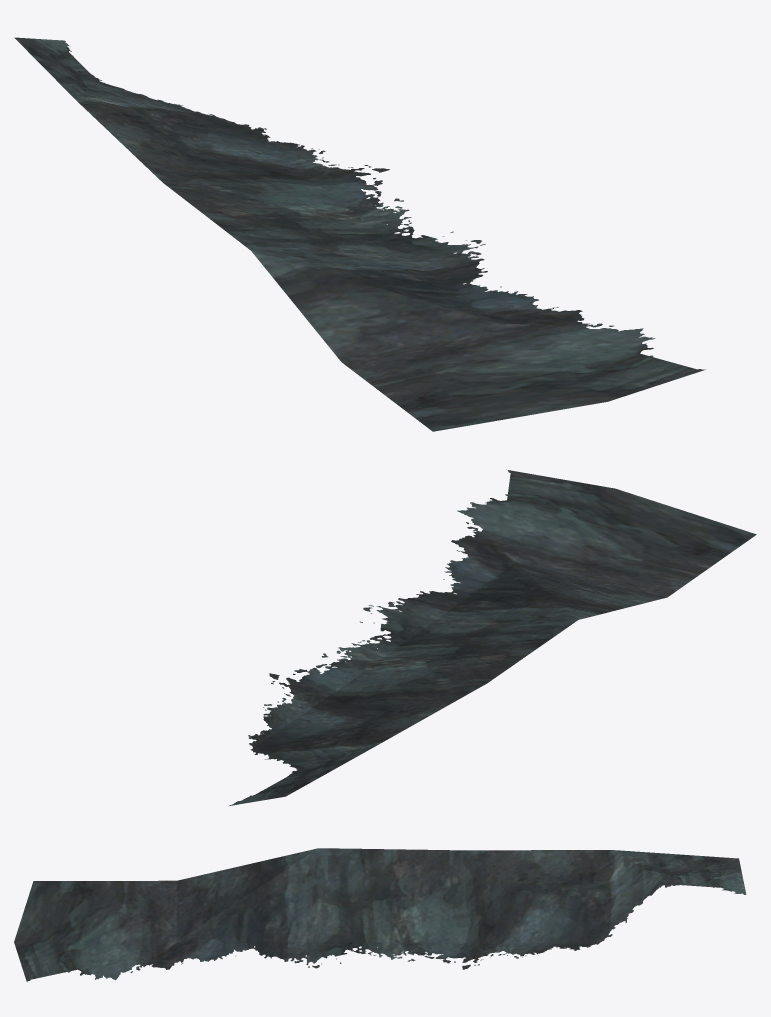
Rendered from blend_weeds19.fbx.
3 renders of one model, top to bottom at view 1: azimuth 30°, elevation 25°; view 2: azimuth 150°, elevation 25°; view 3: azimuth 270°, elevation 25°, orthographic. The views are drawn at different scales.
Parts seen in each view (by area): view 1: obj0.040; view 2: obj0.040; view 3: obj0.040.
Boxes of the visible parts, x1,y1,x2,y2 form: obj0.040: (14, 37, 706, 431); obj0.040: (229, 469, 756, 805); obj0.040: (14, 848, 746, 981).
Size of the model in its own units: 5.06 by 0.7542 by 13.06.
